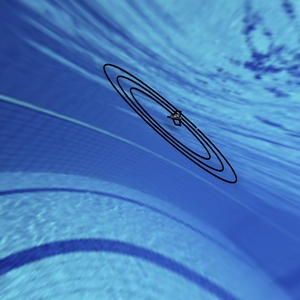circle: (92, 50, 253, 194)
submarine: (159, 100, 191, 135)
